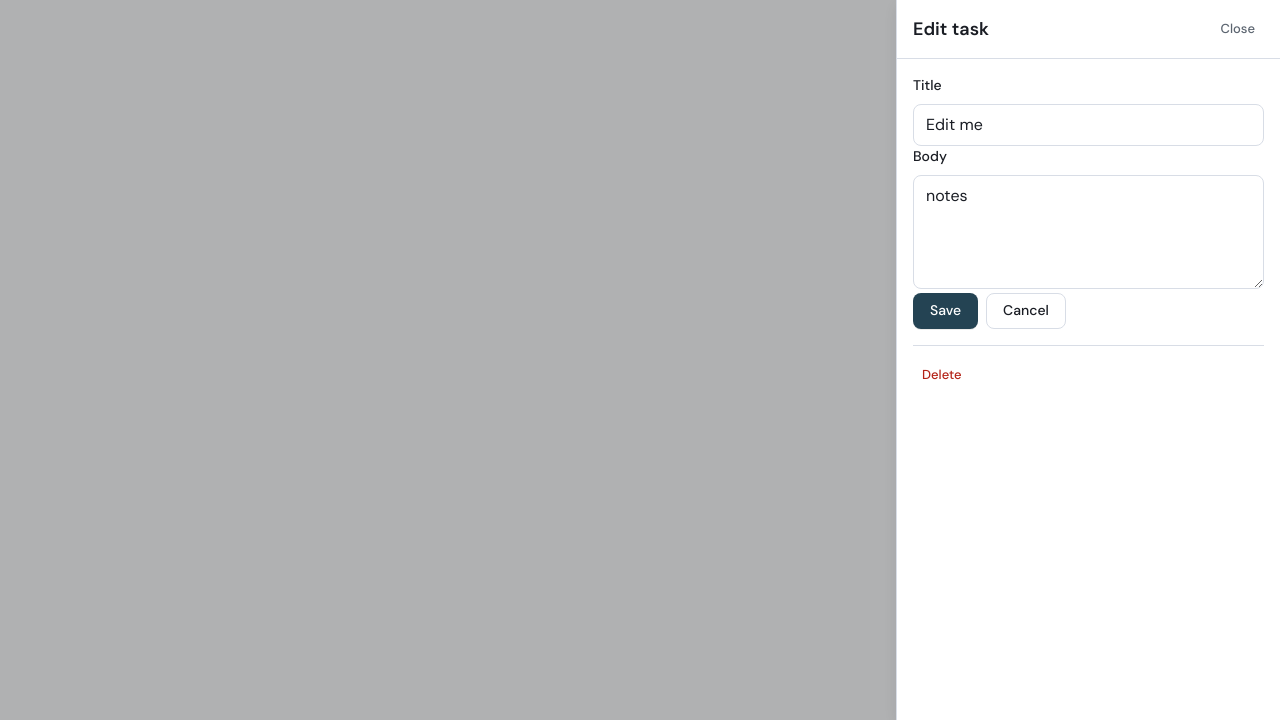
TaskPanelComponent › shows title, body, and confirm-delete
Expected: the field with id "task-title" is shown, [913,104,1264,146]
Expected: the text box with id "task-description" is shown, [913,175,1264,289]
Click the button "Delete".
click(942, 375)  # box [913,362,971,388]
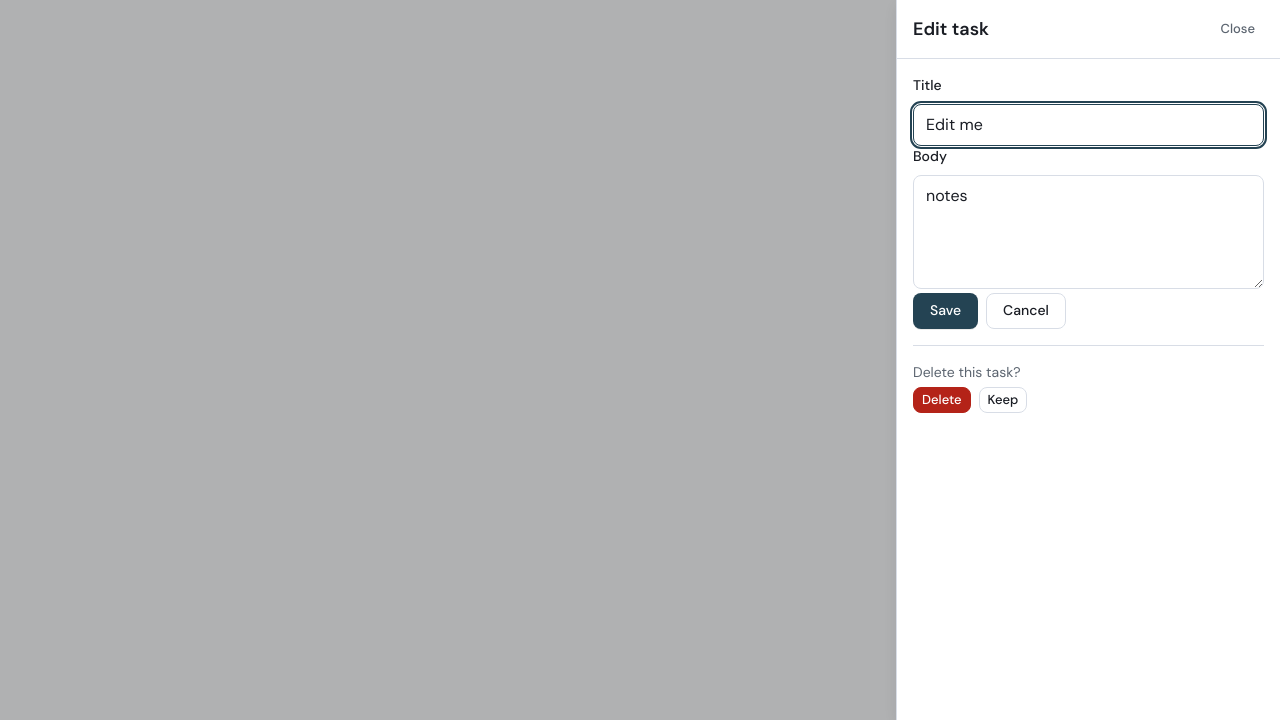
Expected: the text "Delete this task?" is shown, [913,363,1021,381]
